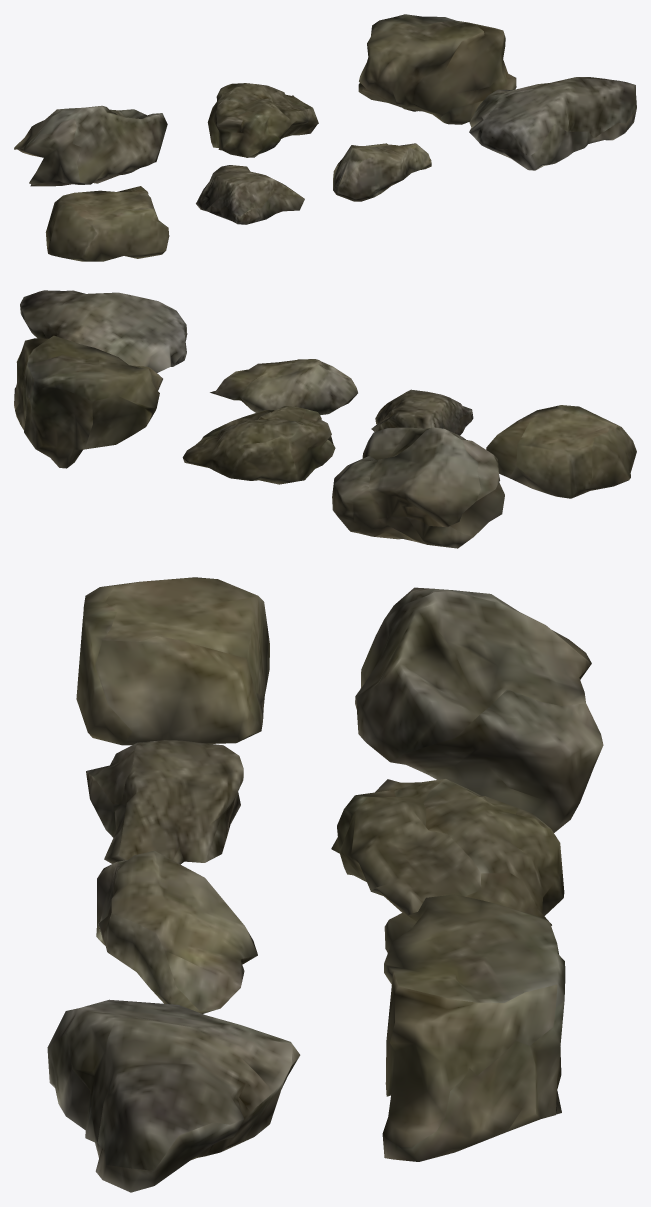
Rendered from rock_moss_set_02_lod.glb.
The picture shows the model from 3 angles, top to bottom: view 1: azimuth 30°, elevation 25°; view 2: azimuth 150°, elevation 25°; view 3: azimuth 270°, elevation 25°; orthographic projection. The views are drawn at different scales.
Visible parts, largest first — view 1: rock_moss_set_02_rock08; view 2: rock_moss_set_02_rock08; view 3: rock_moss_set_02_rock08.
Boxes of the visible parts, x1=… form: rock_moss_set_02_rock08: x1=14, y1=14, x2=636, y2=261; rock_moss_set_02_rock08: x1=14, y1=290, x2=636, y2=548; rock_moss_set_02_rock08: x1=47, y1=577, x2=603, y2=1192.
Bounding box in the file's own units: 8.27 × 1.36 × 3.41.
Materials: 1 (1 with a texture image).
